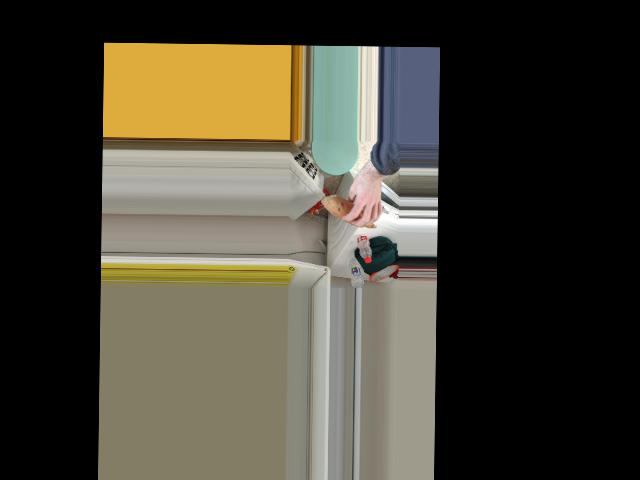sweet_potato: (323, 195, 379, 228)
